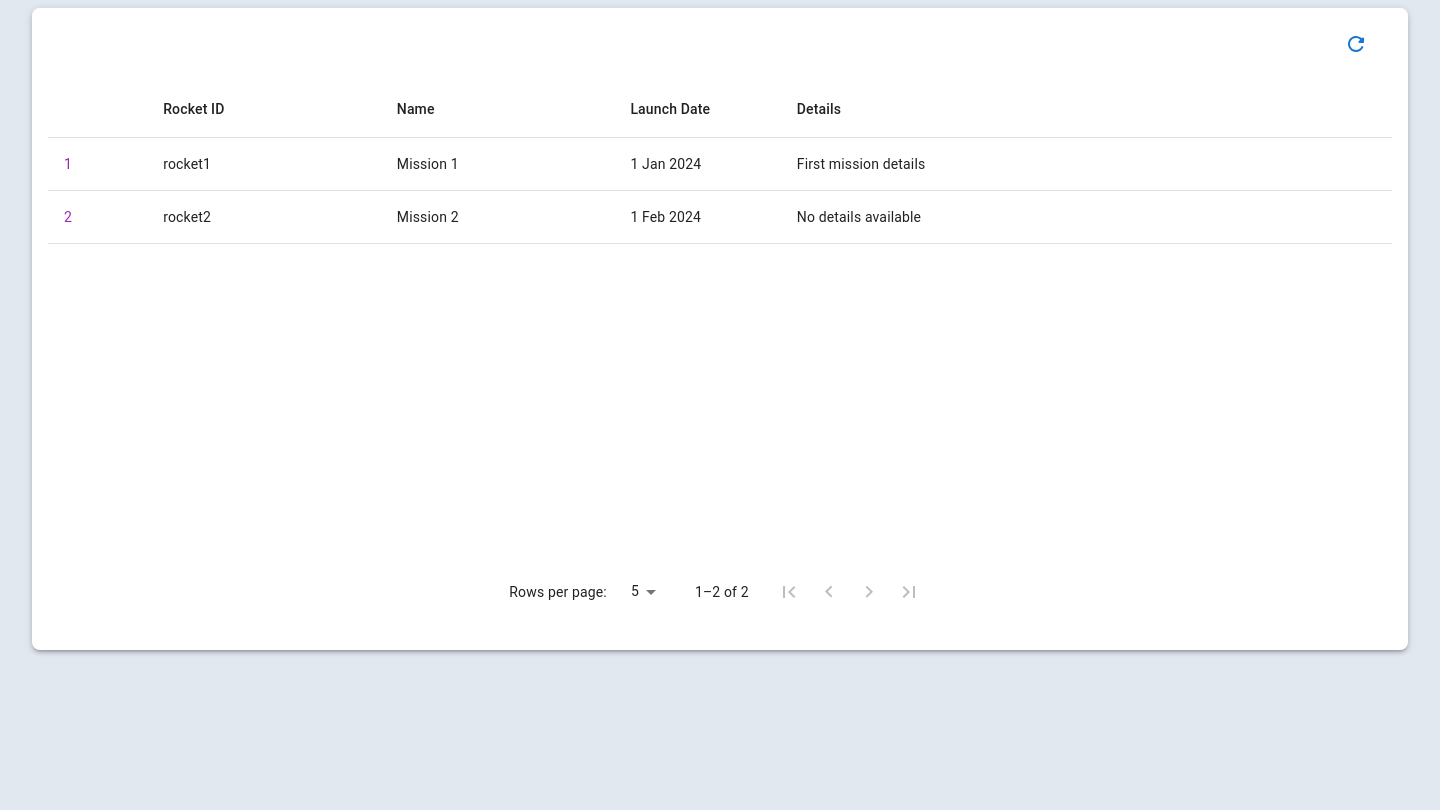
Test: LaunchDataTable › Sorting › sorts by name in ascending and descending order
// First click - ascending
Click the button "Name": (416, 109) [397, 101, 435, 117]
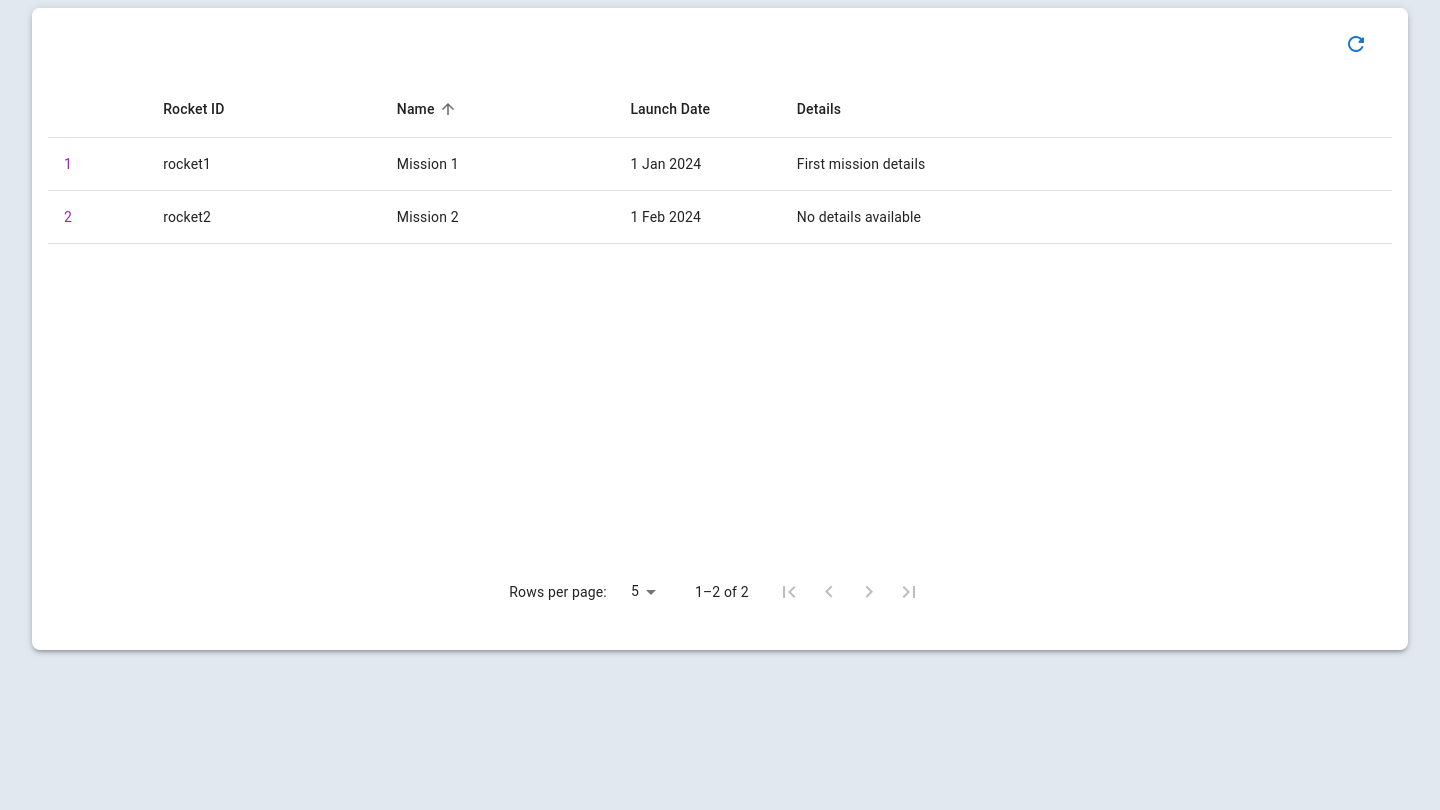
Expected: the text "Mission 1" is shown, [381, 138, 614, 191]
// Second click - descending
Click the button "Name": (429, 109) [397, 97, 461, 121]
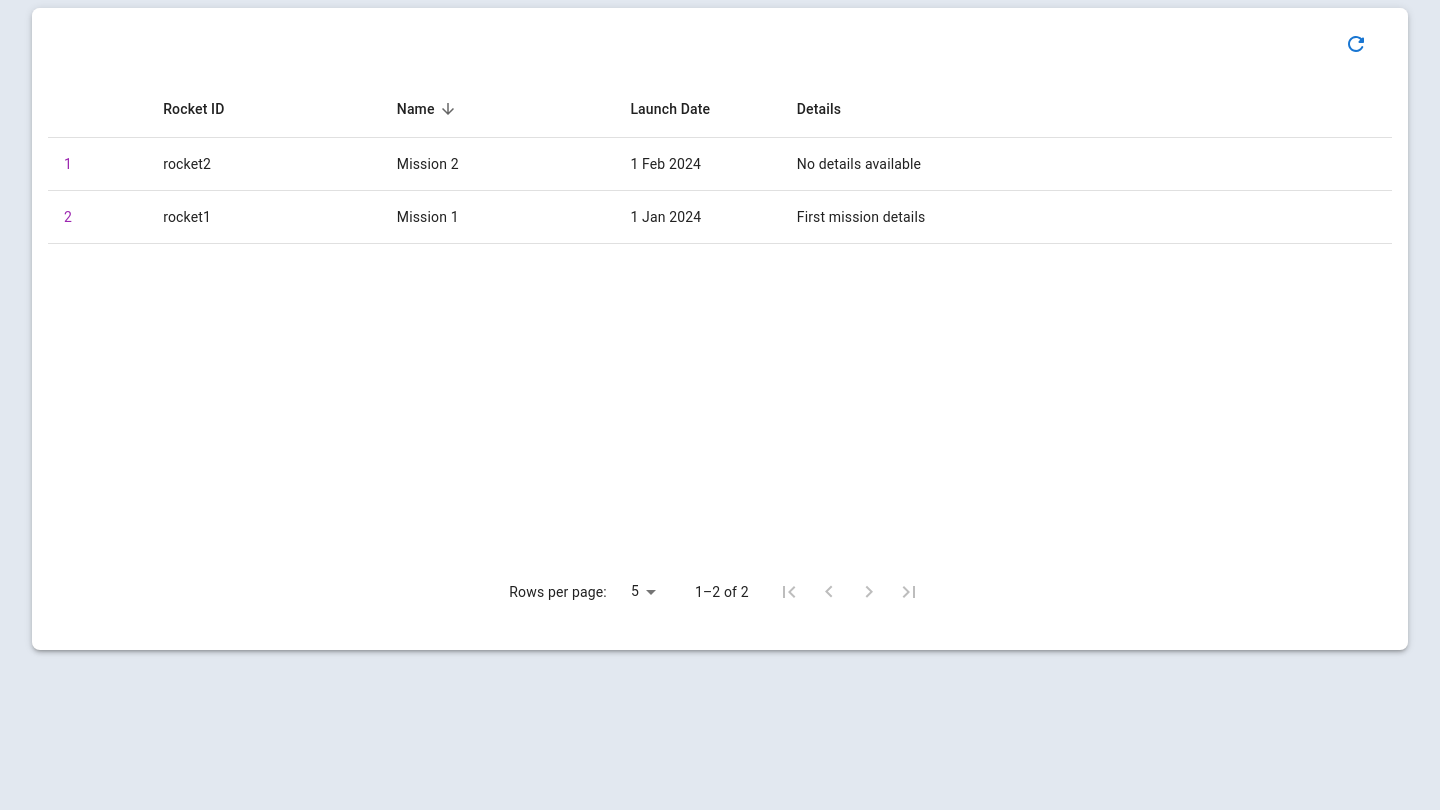
Result: the text "Mission 2" is shown at [381, 138, 614, 191]
